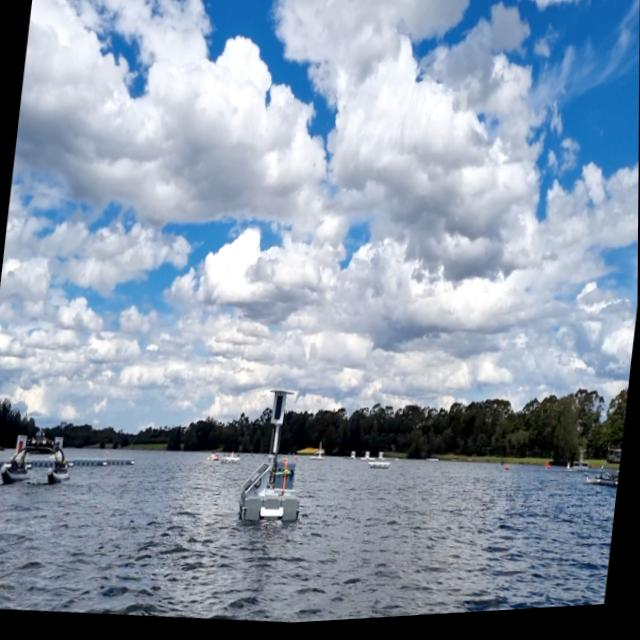led: (273, 396, 285, 425)
